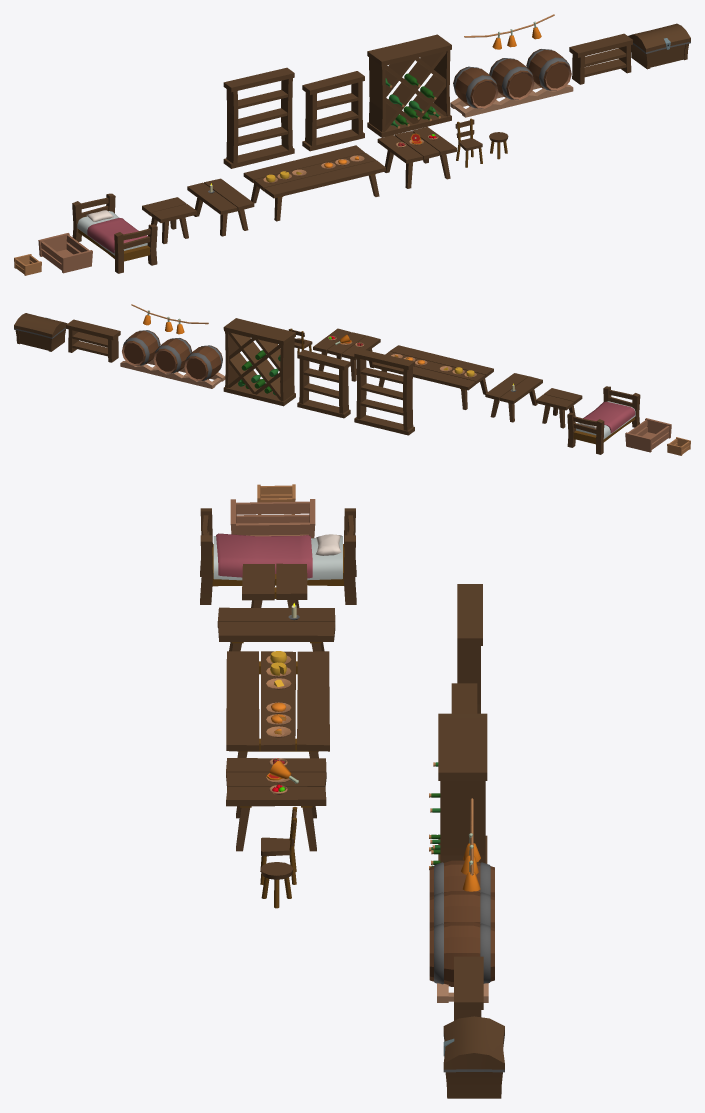
File: WoddenFurnitureDown.fbx
3 renders of one model, top to bottom at view 1: azimuth 30°, elevation 25°; view 2: azimuth 150°, elevation 25°; view 3: azimuth 270°, elevation 25°, orthographic. The views are drawn at different scales.
Visible parts, largest first — view 1: Wine_Bottle.001, HigherShelf, Beer_Burrels_2.002, Table3, Bed, LowShelf, LowestShelf, Table4, Chest, Table2, Box, Table5 (+4 smaller); view 2: Wine_Bottle.001, HigherShelf, Beer_Burrels_2.002, Bed, Table3, LowShelf, LowestShelf, Chest, Table4, Table2, Box, Table5 (+4 smaller); view 3: Table3, Bed, Wine_Bottle.001, Beer_Burrels_2.002, Table4, Chest, Table2, Box, HigherShelf, Table5, LowestShelf, SimpleChair.
Boxes of the visible parts, <box> form: Wine_Bottle.001: <box>367,34,451,137</box>; HigherShelf: <box>223,67,294,168</box>; Beer_Burrels_2.002: <box>453,49,571,108</box>; Table3: <box>243,145,385,221</box>; Bed: <box>72,193,157,273</box>; LowShelf: <box>302,71,364,151</box>; LowestShelf: <box>569,33,632,84</box>; Table4: <box>377,126,456,188</box>; Chest: <box>628,23,690,69</box>; Table2: <box>187,178,254,236</box>; Box: <box>38,233,92,273</box>; Table5: <box>142,197,196,243</box>; Wine_Bottle.001: <box>223,318,295,406</box>; HigherShelf: <box>354,349,414,435</box>; Beer_Burrels_2.002: <box>122,330,222,381</box>; Bed: <box>567,386,640,454</box>; Table3: <box>372,345,493,409</box>; LowShelf: <box>297,349,350,418</box>; LowestShelf: <box>66,319,120,362</box>; Chest: <box>14,313,67,351</box>; Table4: <box>313,328,380,381</box>; Table2: <box>485,373,542,422</box>; Box: <box>625,418,671,452</box>; Table5: <box>535,388,582,428</box>; Table3: <box>226,651,329,758</box>; Bed: <box>200,508,356,604</box>; Wine_Bottle.001: <box>429,713,487,869</box>; Beer_Burrels_2.002: <box>429,860,494,986</box>; Table4: <box>226,758,326,851</box>; Chest: <box>443,1016,504,1098</box>; Table2: <box>217,607,335,651</box>; Box: <box>230,499,315,538</box>; HigherShelf: <box>457,584,482,713</box>; Table5: <box>242,563,307,607</box>; LowestShelf: <box>454,956,483,1020</box>; SimpleChair: <box>260,807,297,884</box>.
Size of the model in its own units: 4944 by 557 by 1061.
